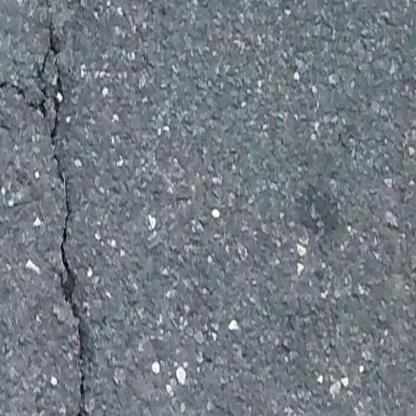Cracks: (0, 0, 116, 416)
